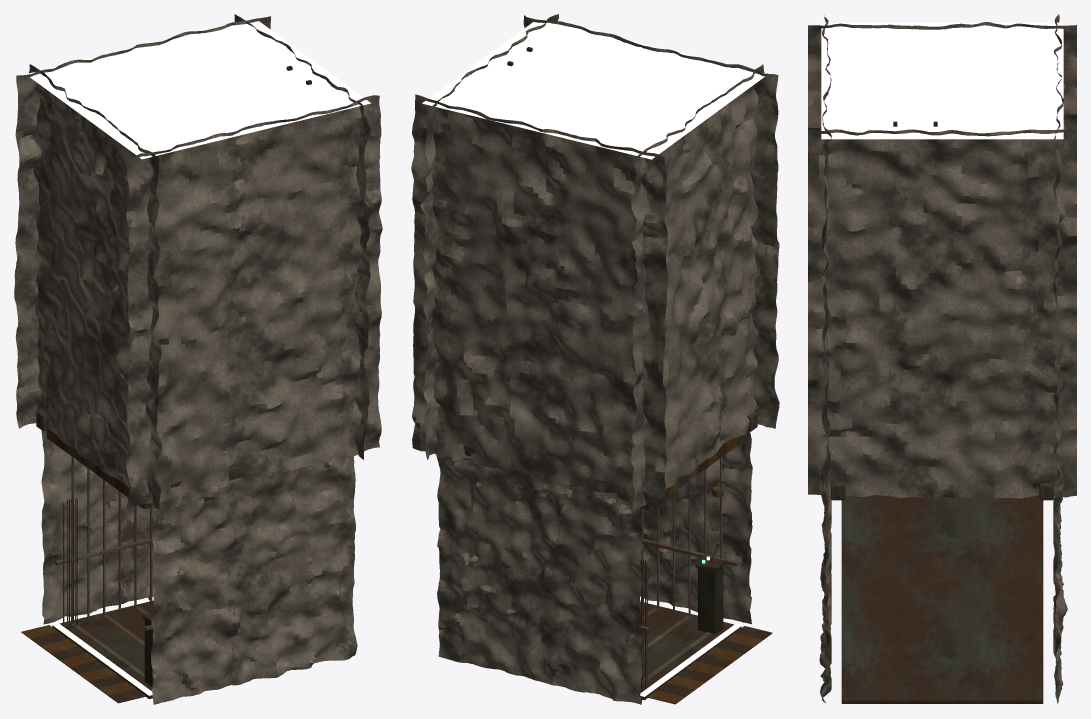
Rendered from env_sanctuary_lift.gltf.
3 views of the same model, side by side, from view 1: azimuth 30°, elevation 25°; view 2: azimuth 150°, elevation 25°; view 3: azimuth 270°, elevation 25° (orthographic). The views are drawn at different scales.
Parts seen in each view (by area): view 1: lift_rock_mine_01, lift_daylight_01, lift_metal_dark_01, lift_steel_painted_01, lift_paint_hazard_01, lift_metal_bare_01, lift_bulb_warm_01; view 2: lift_rock_mine_01, lift_daylight_01, lift_metal_dark_01, lift_steel_painted_01, lift_paint_hazard_01, lift_steel_painted_02, lift_metal_bare_01, lift_bulb_warm_01; view 3: lift_rock_mine_01, lift_steel_painted_01, lift_daylight_01, lift_metal_dark_01, lift_timber_mine_01.
Boxes of the visible parts, x1,y1,x2,y2 form: lift_rock_mine_01: (14,14,382,704); lift_daylight_01: (26,18,370,159); lift_metal_dark_01: (31,66,311,703); lift_steel_painted_01: (55,456,152,630); lift_paint_hazard_01: (21,430,151,695); lift_metal_bare_01: (63,500,154,678); lift_bulb_warm_01: (52,622,152,695); lift_rock_mine_01: (411,14,779,704); lift_daylight_01: (422,18,764,159); lift_metal_dark_01: (507,47,772,700); lift_steel_painted_01: (640,457,738,631); lift_paint_hazard_01: (647,437,762,704); lift_steel_painted_02: (698,565,723,633); lift_metal_bare_01: (639,546,723,687); lift_bulb_warm_01: (640,556,741,696); lift_rock_mine_01: (808,14,1076,704); lift_steel_painted_01: (841,495,1043,700); lift_daylight_01: (821,22,1063,139); lift_metal_dark_01: (841,121,1043,703); lift_timber_mine_01: (831,481,1053,500).
Size of the model in its own units: 4.55 by 9.46 by 4.
12 materials, 9 textured.
